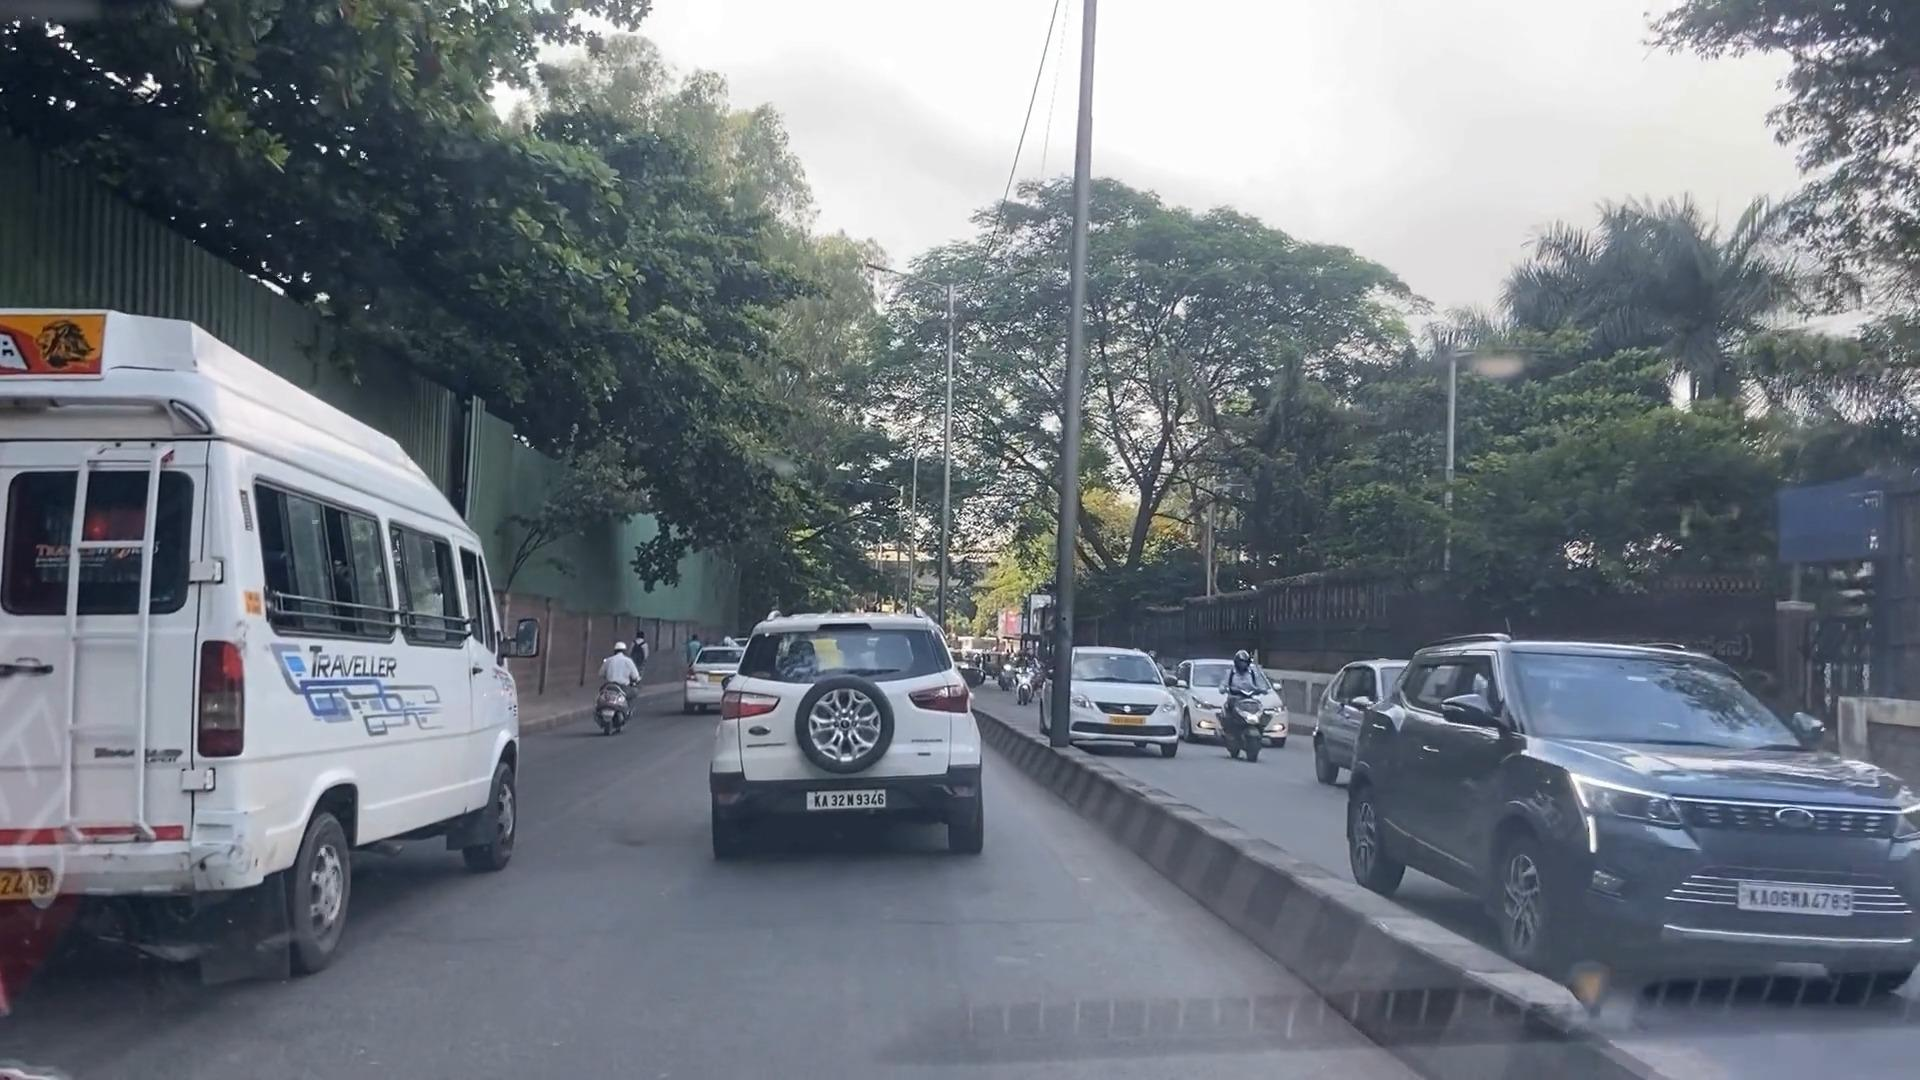HMV: (5, 306, 575, 986)
LMV: (717, 603, 980, 866)
